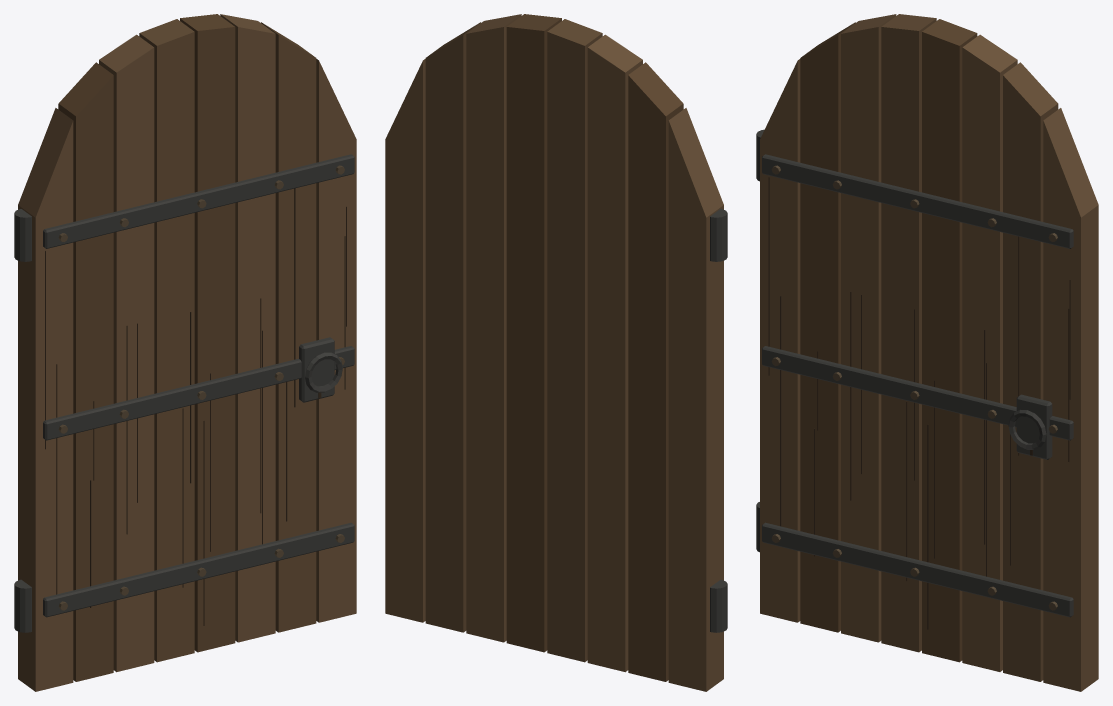
File: door_oak.glb
The picture shows the model from 3 angles, left to right: view 1: azimuth 30°, elevation 25°; view 2: azimuth 150°, elevation 25°; view 3: azimuth 330°, elevation 25°; orthographic projection.
Visible parts, largest first — view 1: door_oak_Geometry; view 2: door_oak_Geometry; view 3: door_oak_Geometry.
Part boxes in pixels (box(x1,y1,x2,y2)): door_oak_Geometry: box(14, 14, 356, 691); door_oak_Geometry: box(385, 14, 727, 691); door_oak_Geometry: box(756, 14, 1098, 691).
Bounding box in the file's own units: 1.41 × 2.53 × 0.2194.
